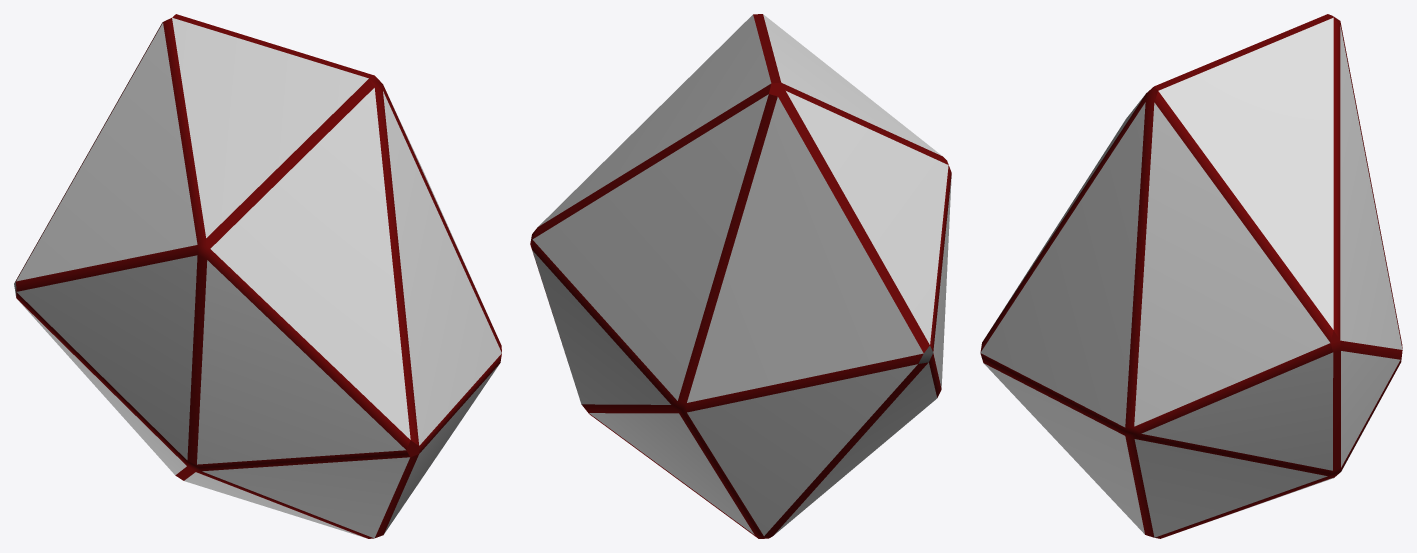
Rendered from Rocker3.fbx.
The picture shows the model from 3 angles, left to right: view 1: azimuth 30°, elevation 25°; view 2: azimuth 150°, elevation 25°; view 3: azimuth 270°, elevation 25°; orthographic projection. The views are drawn at different scales.
Parts seen in each view (by area): view 1: Rocker3; view 2: Rocker3; view 3: Rocker3.
Part boxes in pixels (x1,y1,x2,y2): Rocker3: [14, 14, 501, 538]; Rocker3: [530, 14, 951, 538]; Rocker3: [980, 14, 1402, 538].
Size of the model in its own units: 217 by 246 by 200.
